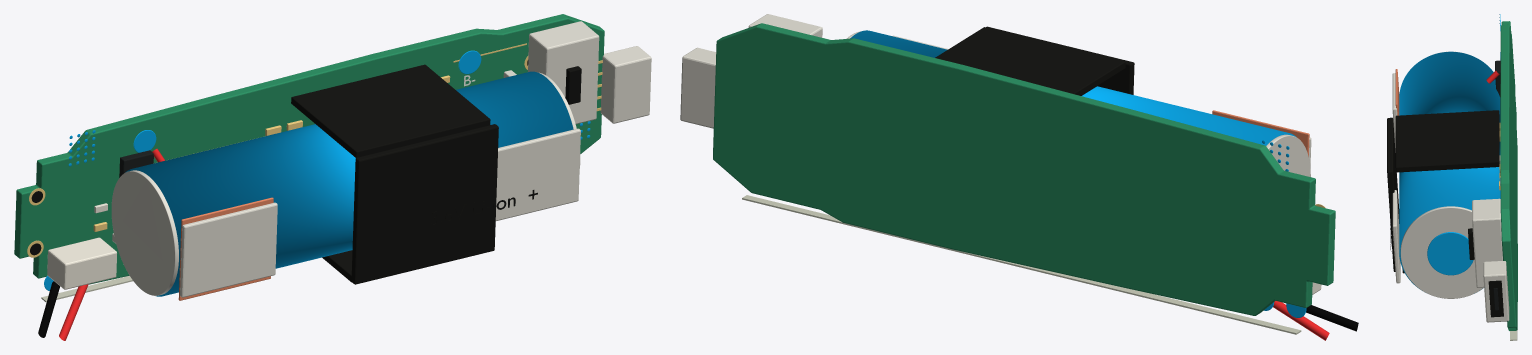
File: batteri_pcb.glb
The picture shows the model from 3 angles, left to right: view 1: azimuth 30°, elevation 25°; view 2: azimuth 150°, elevation 25°; view 3: azimuth 270°, elevation 25°; orthographic projection. The views are drawn at different scales.
Visible parts, largest first — view 1: batteri; view 2: batteri; view 3: batteri.
Boxes of the visible parts, box(x1,y1,x2,y2) form: batteri: box(14, 14, 651, 340); batteri: box(680, 14, 1358, 340); batteri: box(1387, 14, 1517, 340).
Size of the model in its own units: 102 by 30.09 by 23.47.
